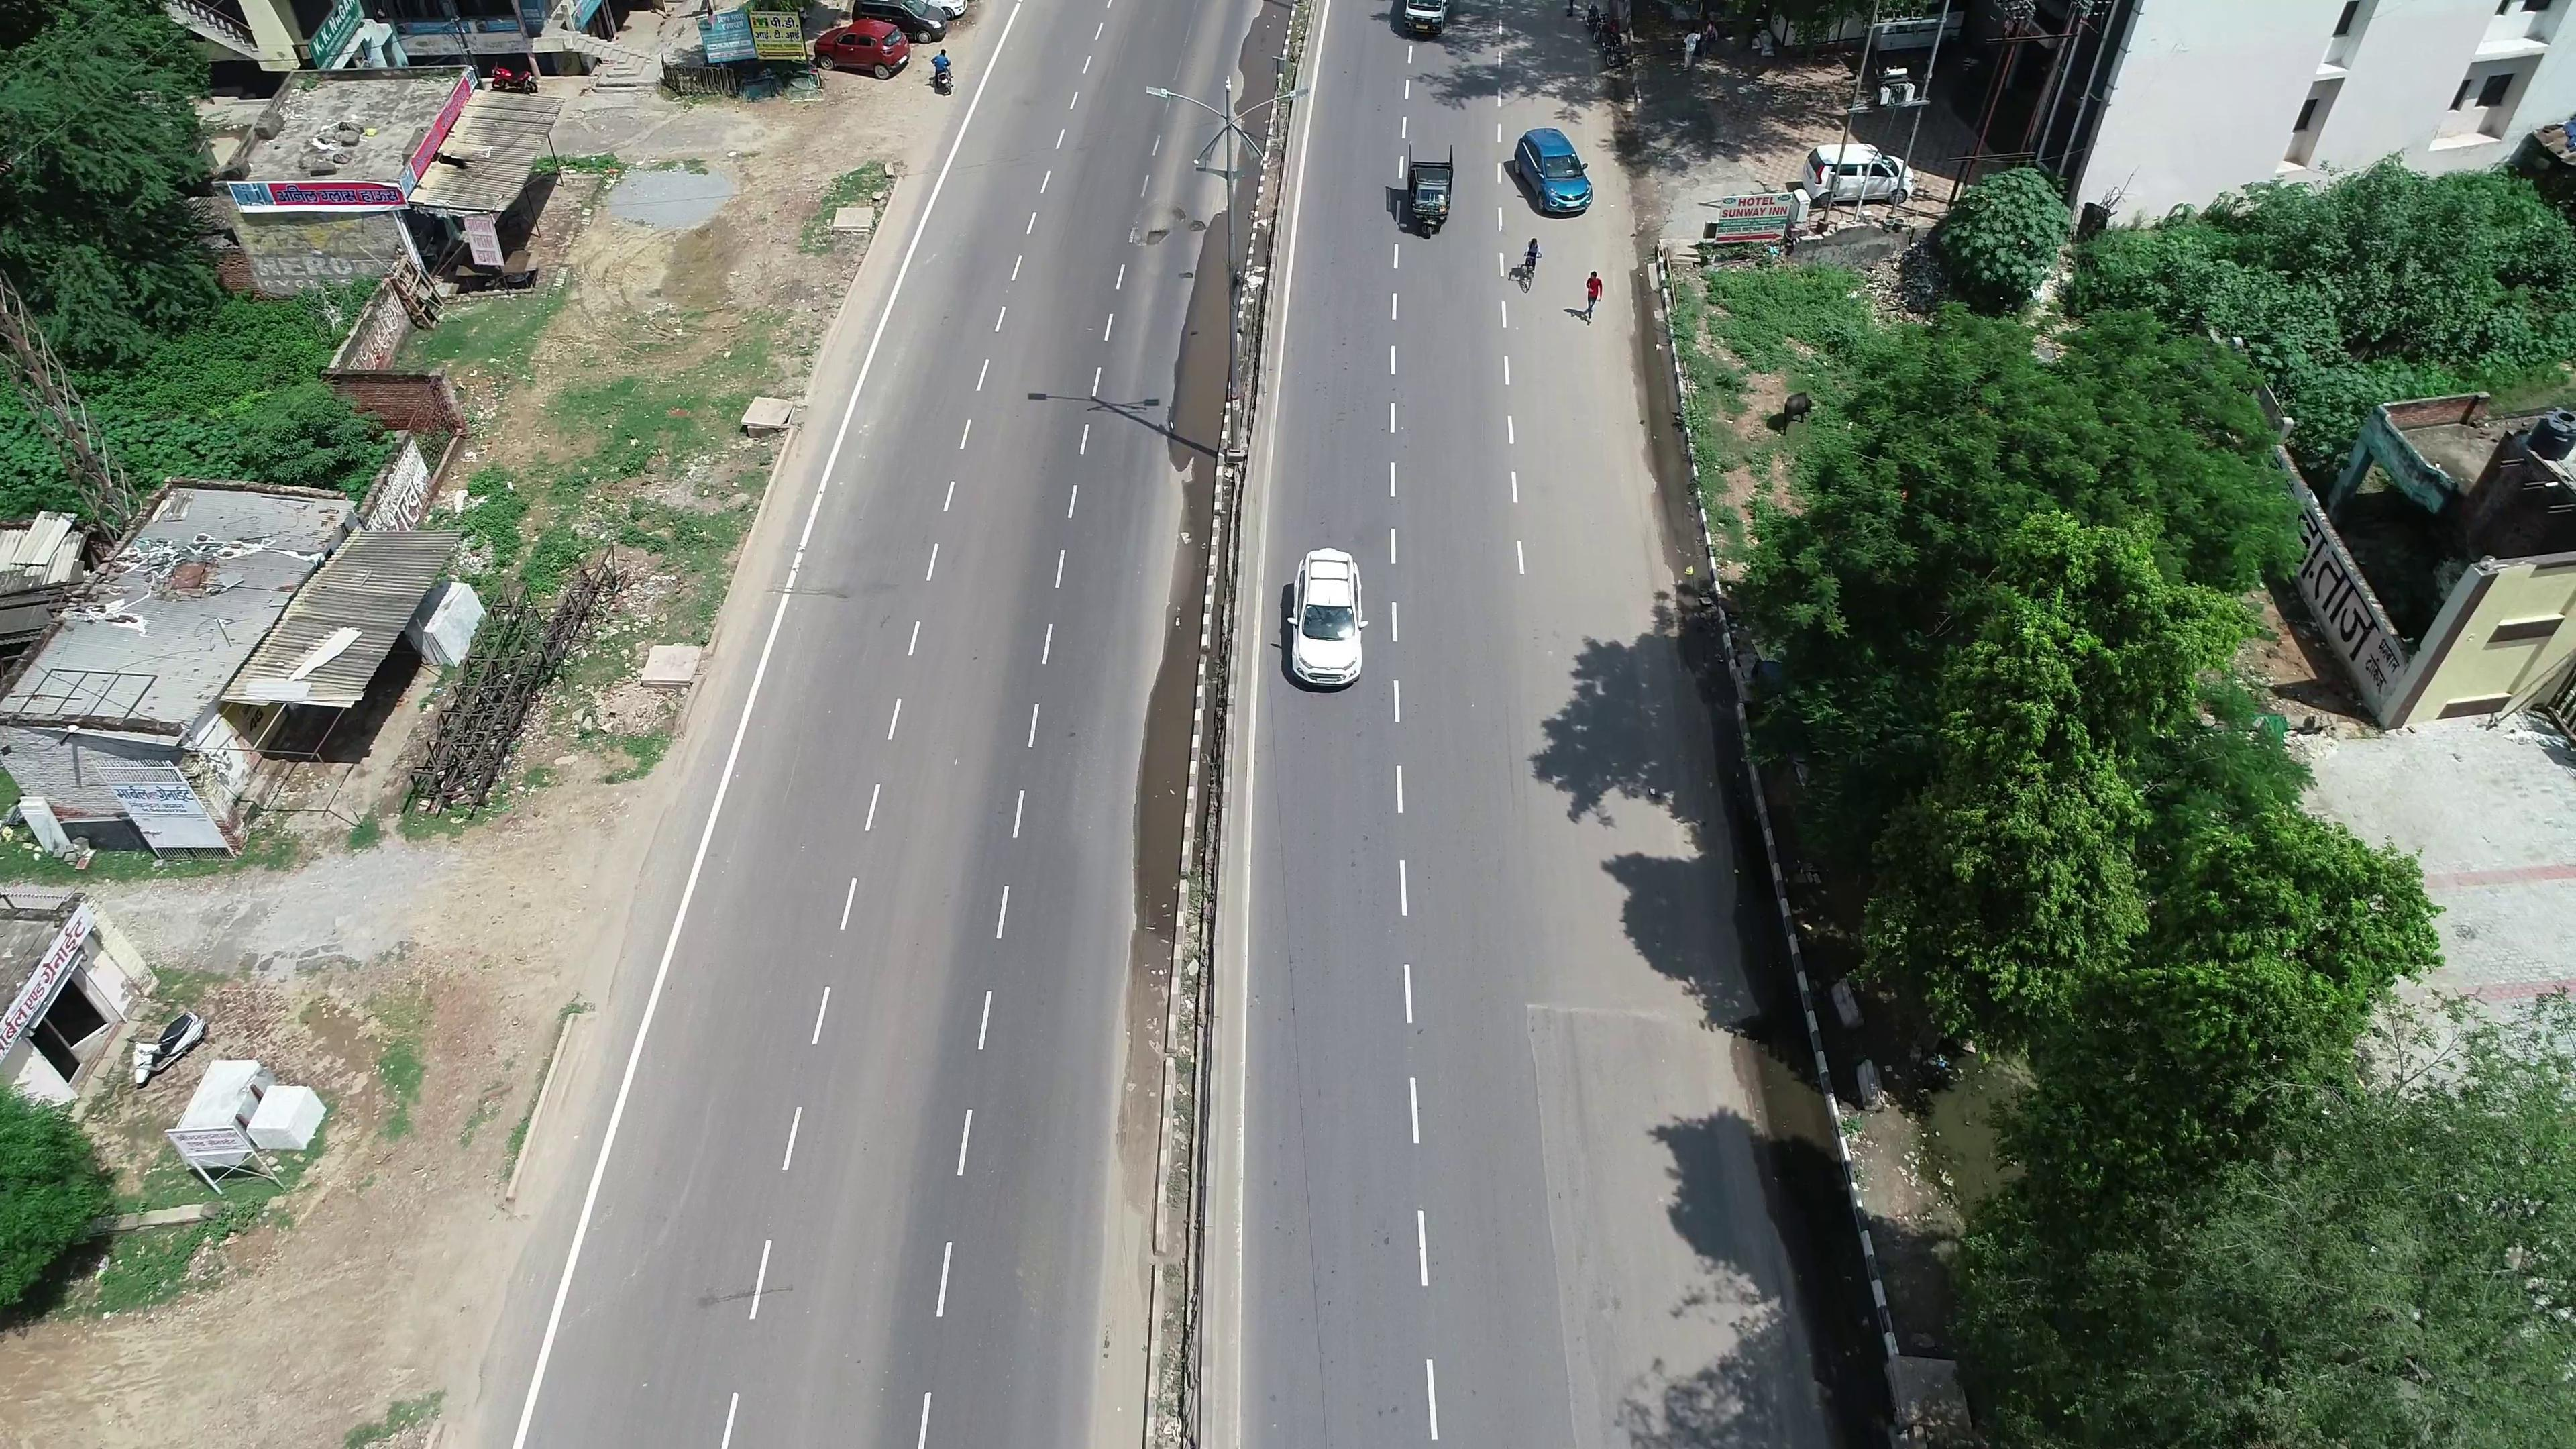Potholes: (1138, 202, 1210, 255), (1173, 262, 1194, 287)
Waterlogging: (1116, 616, 1191, 924), (1161, 235, 1230, 456)
